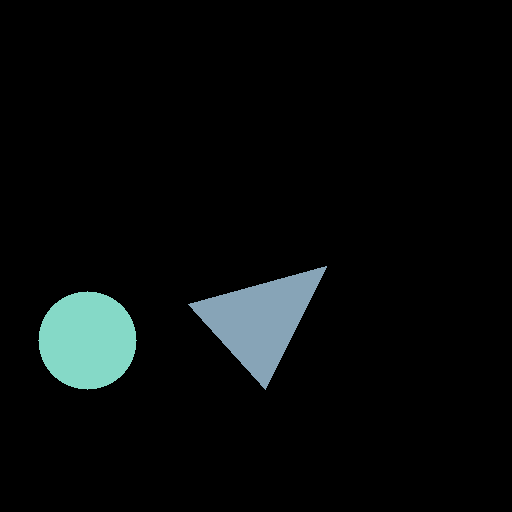circle: (38, 291, 136, 389)
triangle: (188, 266, 326, 389)
